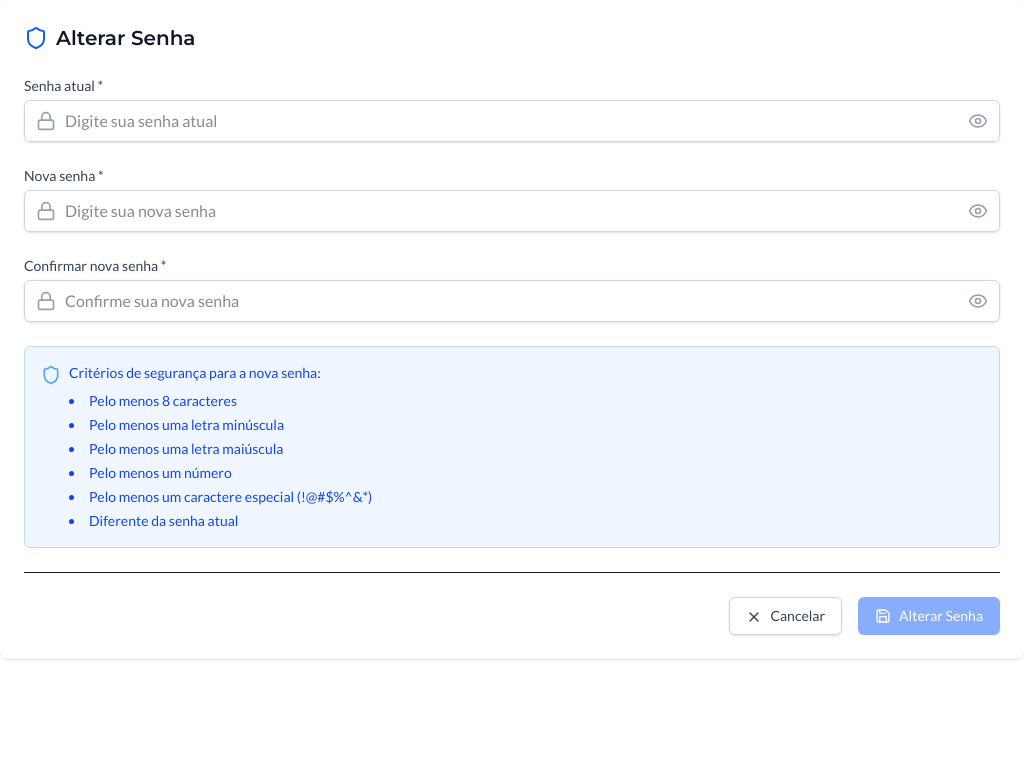
Test: PasswordChangeForm Integration › shows success feedback when passwords are strong and match
Note: Type strong matching passwords
In the password field labelled "Nova senha *": (512, 211) [24,190,1000,232], type "StrongPass123!"
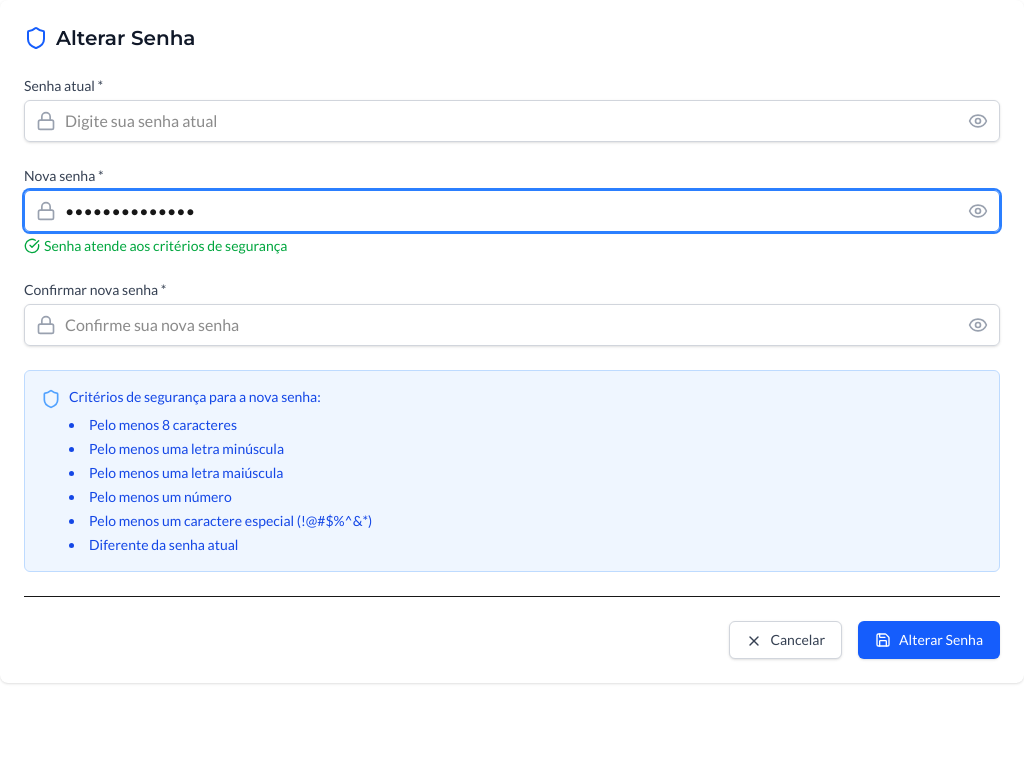
In the password field labelled "Confirmar nova senha *": (512, 325) [24,304,1000,346], type "StrongPass123!"
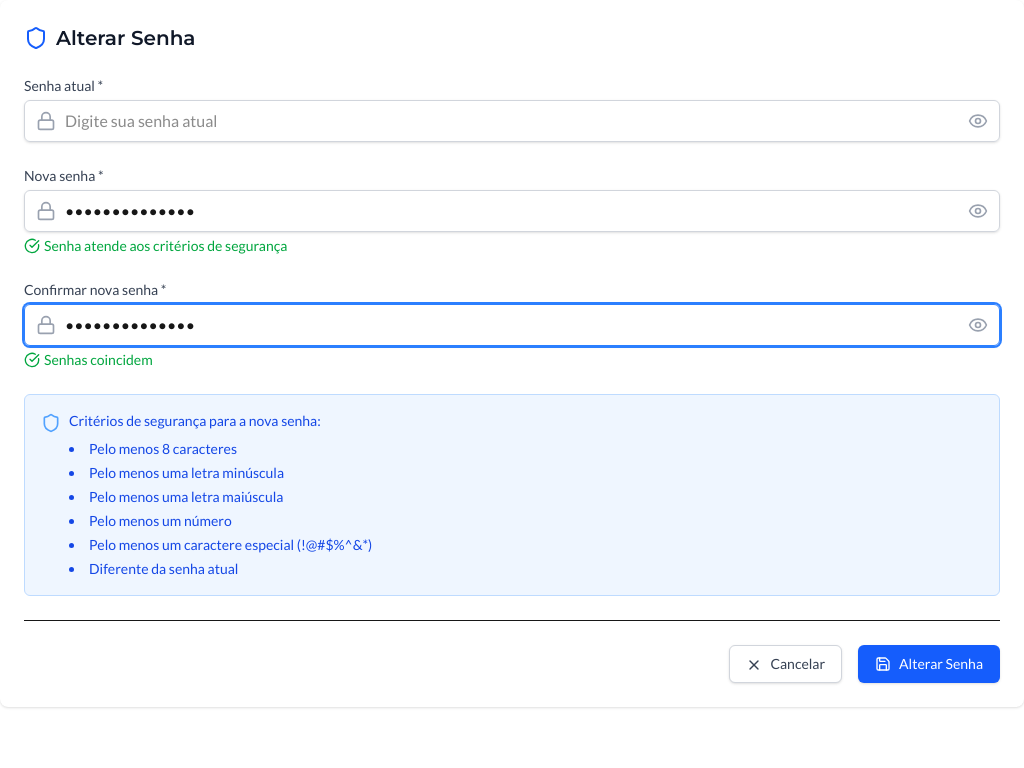
expect the text "Senha atende aos critérios de segurança" is shown: met, box [24,237,287,254]
expect the text "Senhas coincidem" is shown: met, box [24,351,153,368]
